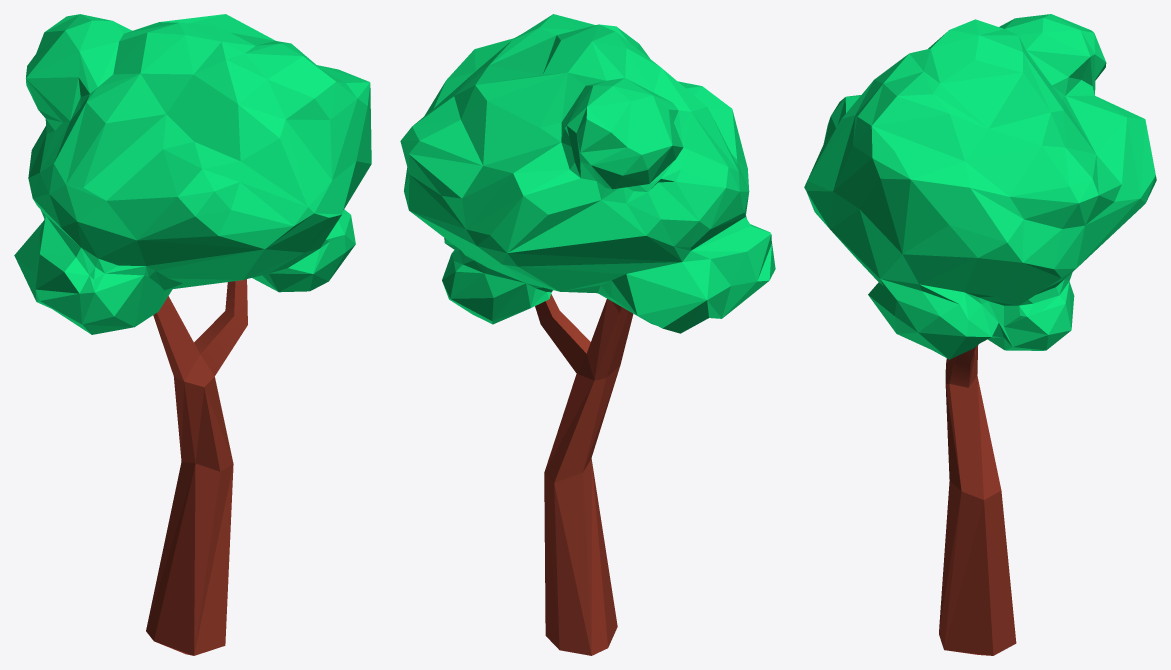
File: tree1 (1).fbx
3 renders of one model, left to right at view 1: azimuth 30°, elevation 25°; view 2: azimuth 150°, elevation 25°; view 3: azimuth 270°, elevation 25°, orthographic. The views are drawn at different scales.
Visible parts, largest first — view 1: SM_Generic_Tree_01, SM_Generic_Tree_01.001; view 2: SM_Generic_Tree_01, SM_Generic_Tree_01.001; view 3: SM_Generic_Tree_01, SM_Generic_Tree_01.001.
Boxes of the visible parts, x1=… form: SM_Generic_Tree_01: x1=14, y1=14, x2=371, y2=334; SM_Generic_Tree_01.001: x1=146, y1=279, x2=247, y2=655; SM_Generic_Tree_01: x1=400, y1=14, x2=775, y2=333; SM_Generic_Tree_01.001: x1=535, y1=294, x2=633, y2=655; SM_Generic_Tree_01: x1=804, y1=14, x2=1156, y2=359; SM_Generic_Tree_01.001: x1=939, y1=345, x2=1016, y2=655.
Bounding box in the file's own units: 181 × 330 × 170.
